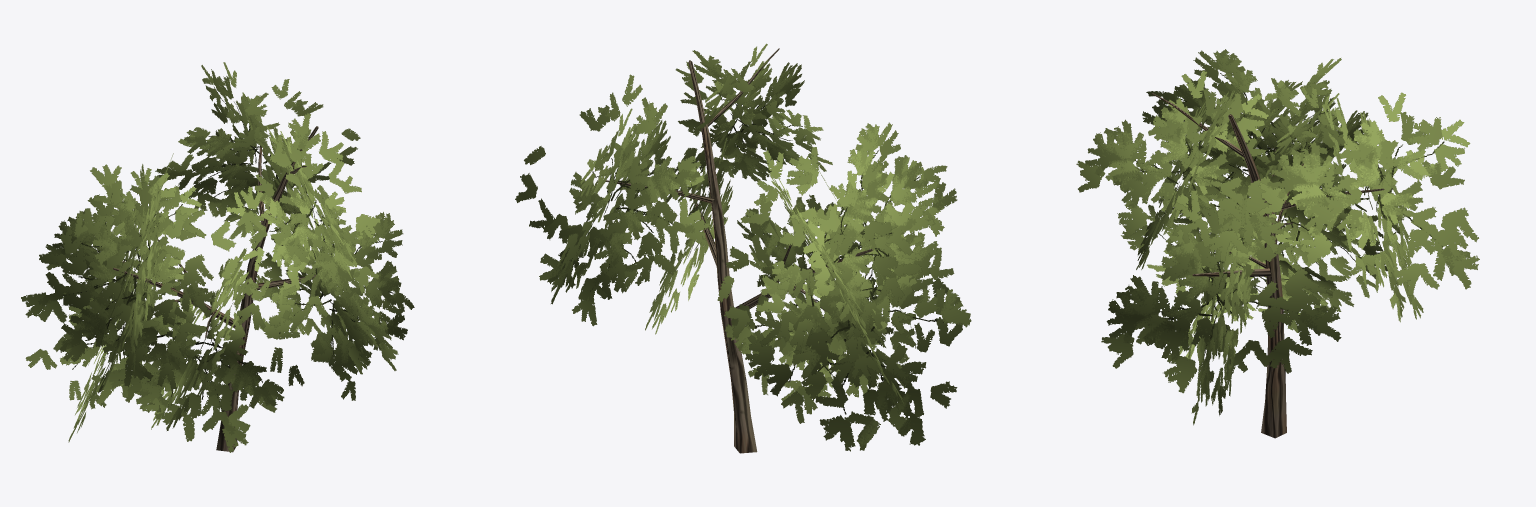
Rendered from sapling-b.lod1.glb.
3 views of the same model, side by side, from view 1: azimuth 30°, elevation 25°; view 2: azimuth 150°, elevation 25°; view 3: azimuth 270°, elevation 25° (orthographic). The views are drawn at different scales.
Parts seen in each view (by area): view 1: foliage, bark; view 2: foliage, bark; view 3: foliage, bark.
Boxes of the visible parts, x1=… form: foliage: x1=21, y1=62, x2=414, y2=452; bark: x1=113, y1=126, x2=318, y2=452; foliage: x1=515, y1=43, x2=971, y2=451; bark: x1=605, y1=48, x2=872, y2=453; foliage: x1=1076, y1=49, x2=1479, y2=425; bark: x1=1152, y1=93, x2=1384, y2=438.
Size of the model in its own units: 1.51 by 1.3 by 1.4.
2 materials, 2 textured.
